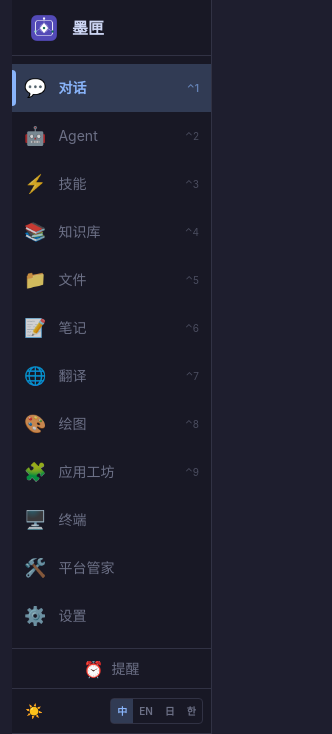
Test case: 右键菜单：弹出独立窗口 › 设置/终端/平台管家不可弹出（菜单里没有该动作，也不报错）
Right-click the button labelled "⚙️ 设置" at (112, 616), box [12, 592, 211, 640]
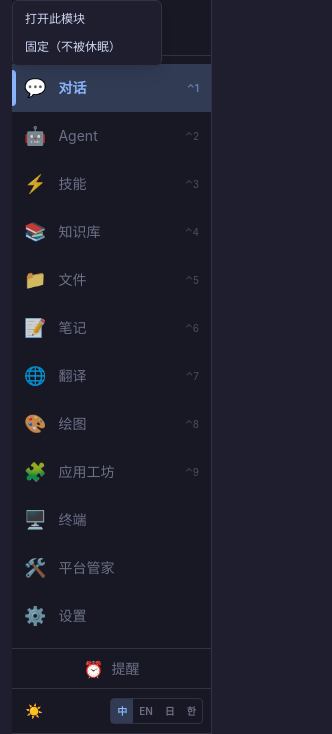
expect the button "固定（不被休眠）" is shown: met, box [13, 33, 161, 61]
